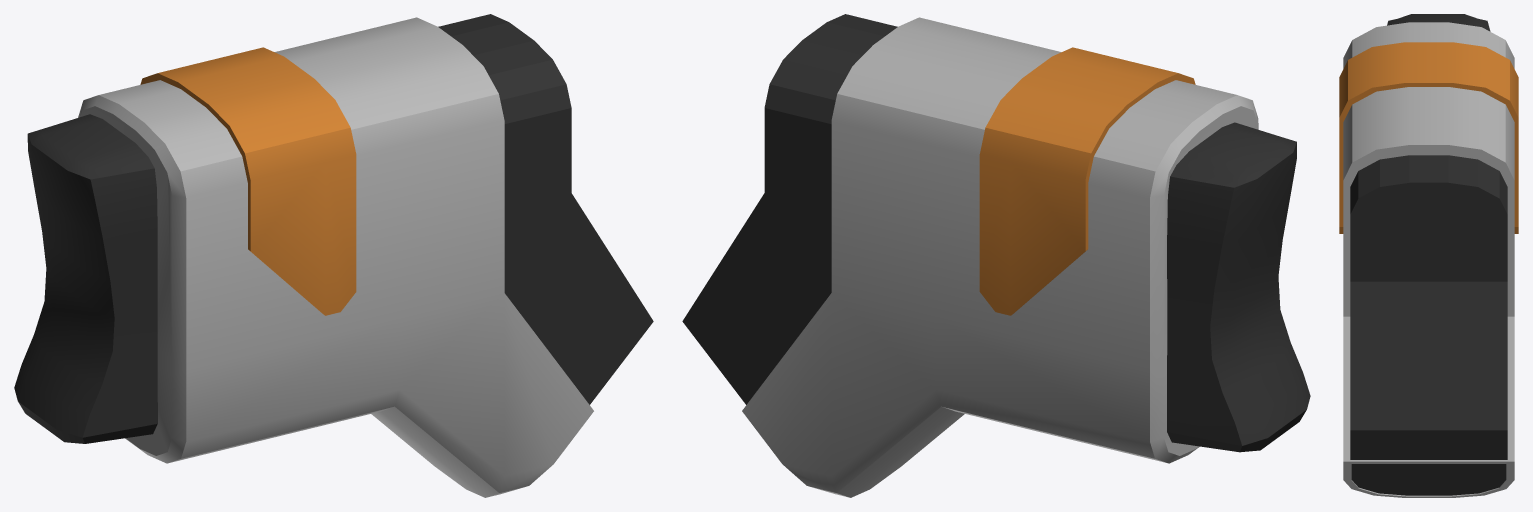
The model's file is Stock_Pistol_3.glb.
3 views of the same model, side by side, from view 1: azimuth 30°, elevation 25°; view 2: azimuth 150°, elevation 25°; view 3: azimuth 270°, elevation 25° (orthographic). The views are drawn at different scales.
Visible parts, largest first — view 1: Stock_Pistol_3; view 2: Stock_Pistol_3; view 3: Stock_Pistol_3.
Part boxes in pixels (left/top/right/bottom): Stock_Pistol_3: left=14, top=14, right=653, bottom=497; Stock_Pistol_3: left=682, top=14, right=1310, bottom=497; Stock_Pistol_3: left=1339, top=14, right=1518, bottom=497.
Size of the model in its own units: 0.3248 by 0.2473 by 0.114.
